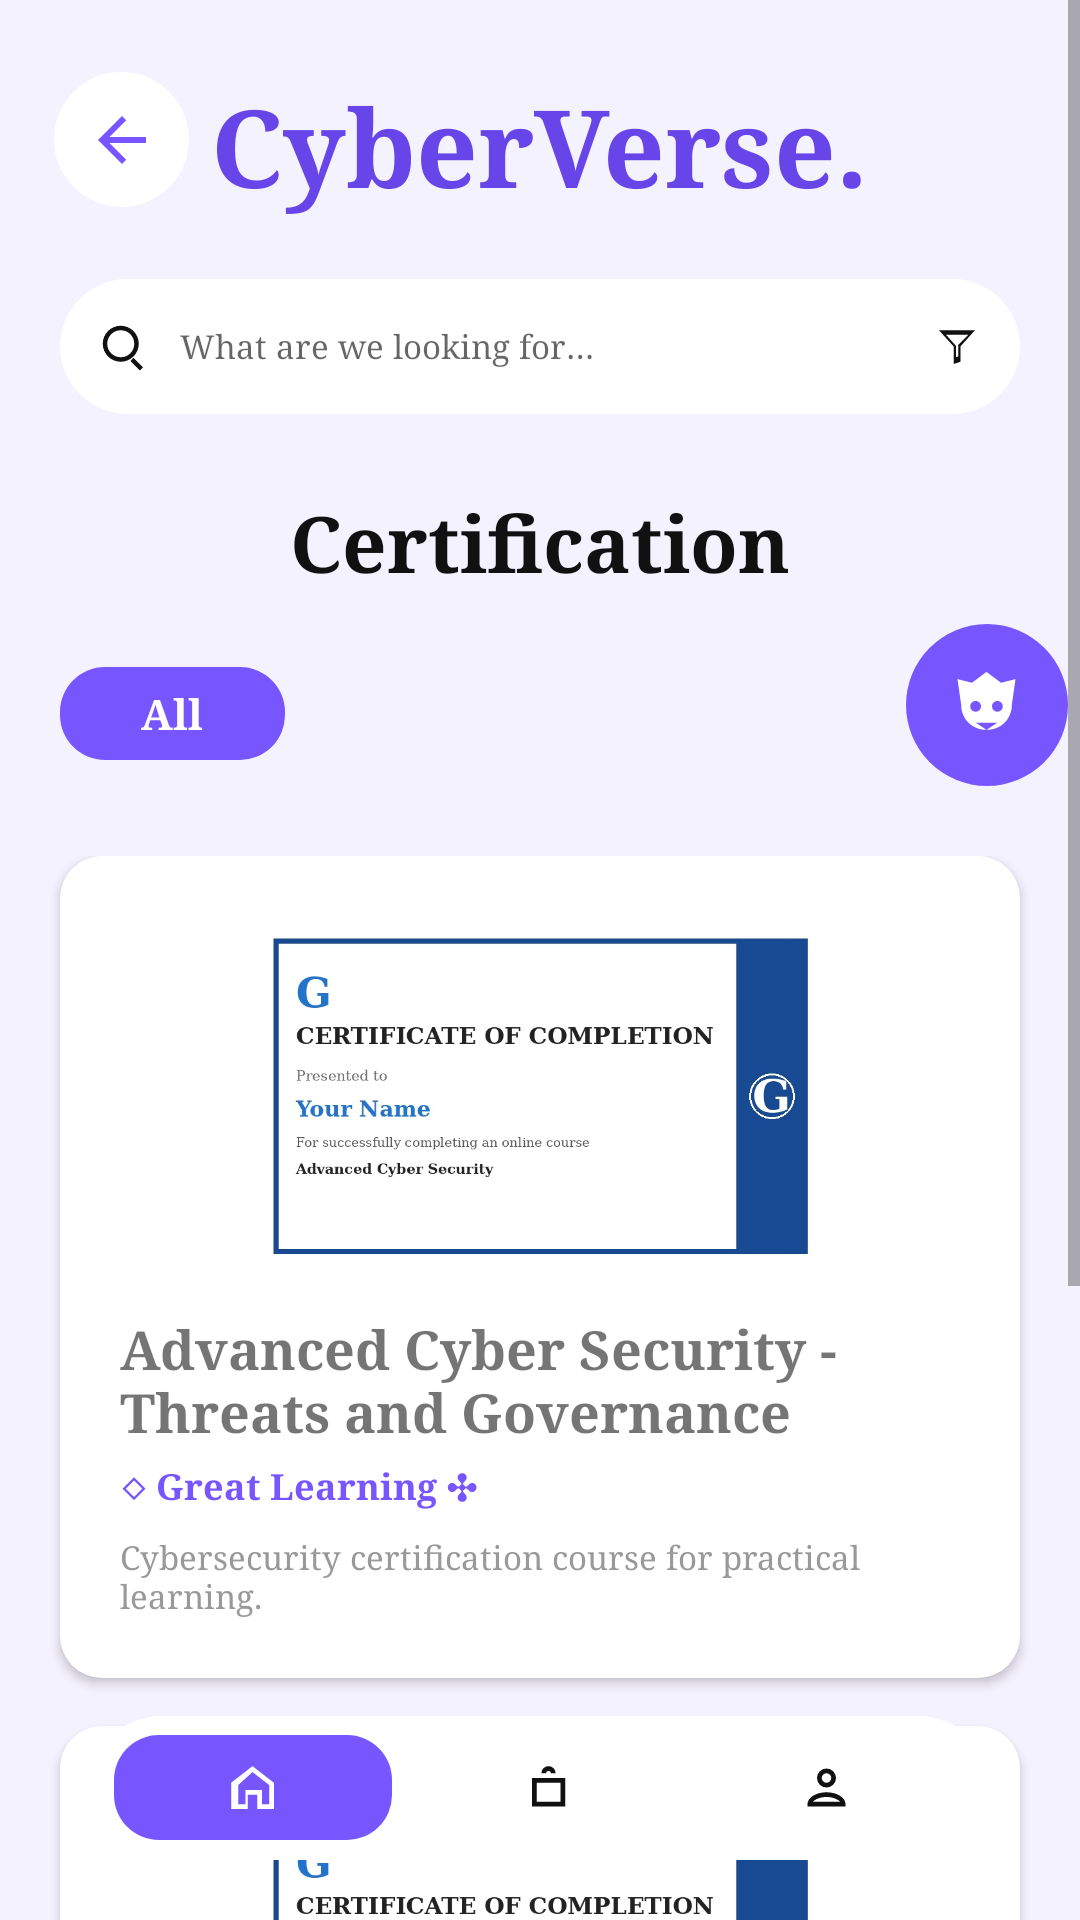

Where to tap for icons on this 1080*1920 app screen, as point (x, y):
Back: point (121, 139)
cat: point (986, 701)
Filter: point (957, 347)
Home: point (252, 1787)
Profile: point (826, 1787)
Search: point (122, 348)
Shop: point (549, 1786)
